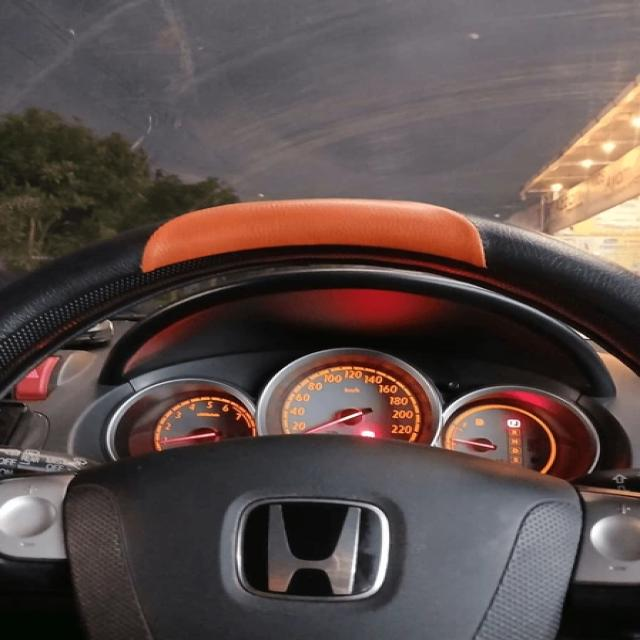honda: (245, 499, 389, 600)
